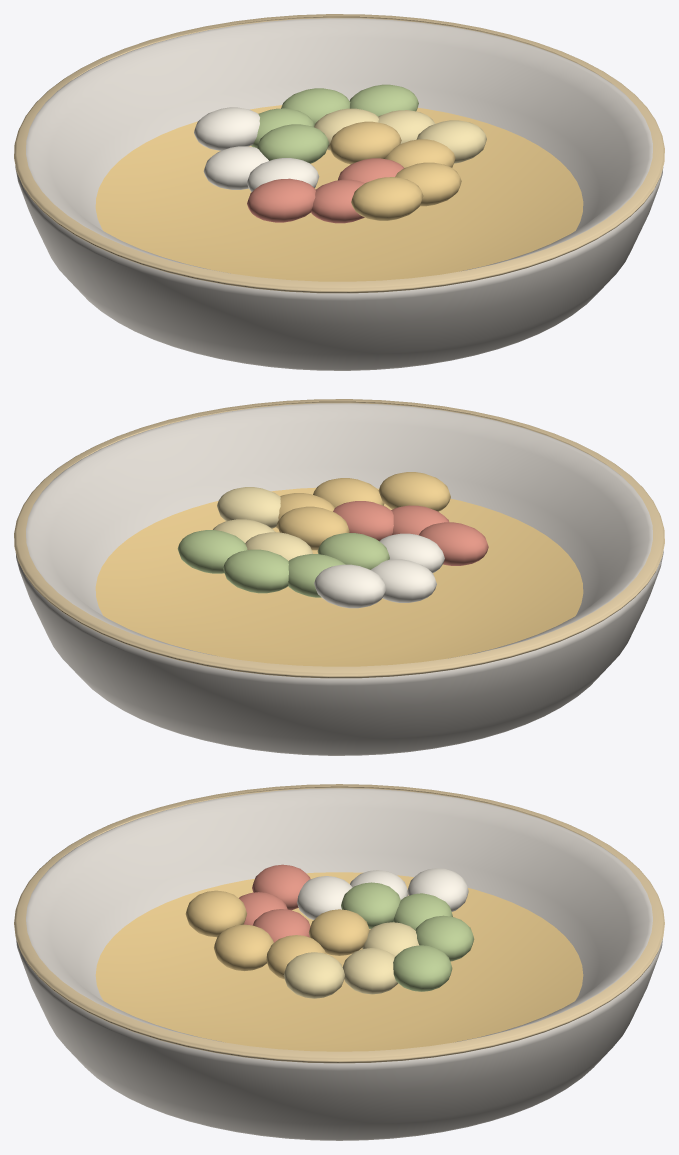
File: open-burrito-table.glb
The picture shows the model from 3 angles, top to bottom: view 1: azimuth 30°, elevation 25°; view 2: azimuth 150°, elevation 25°; view 3: azimuth 270°, elevation 25°; orthographic projection.
Visible parts, largest first — view 1: Hand-thrown shallow bowl, Sauce and food bed, Fine bowl rim, Burrito bowl topping.015, Burrito bowl topping.012, Burrito bowl topping.014, Burrito bowl topping, Burrito bowl topping.001, Burrito bowl topping.009, Burrito bowl topping.010, Burrito bowl topping.013, Burrito bowl topping.007 (+8 smaller); view 2: Hand-thrown shallow bowl, Sauce and food bed, Fine bowl rim, Burrito bowl topping.014, Burrito bowl topping.011, Burrito bowl topping.015, Burrito bowl topping.016, Burrito bowl topping.009, Burrito bowl topping.012, Burrito bowl topping.013, Burrito bowl topping, Burrito bowl topping.001 (+8 smaller); view 3: Hand-thrown shallow bowl, Sauce and food bed, Fine bowl rim, Burrito bowl topping.013, Burrito bowl topping.016, Burrito bowl topping, Burrito bowl topping.010, Burrito bowl topping.015, Burrito bowl topping.008, Burrito bowl topping.001, Burrito bowl topping.011, Burrito bowl topping.014 (+8 smaller).
Boxes of the visible parts, <box> form: Hand-thrown shallow bowl: <box>15,18,663,370</box>; Sauce and food bed: <box>95,105,583,281</box>; Fine bowl rim: <box>14,14,664,293</box>; Burrito bowl topping.015: <box>351,177,423,220</box>; Burrito bowl topping.012: <box>247,178,315,222</box>; Burrito bowl topping.014: <box>194,107,259,150</box>; Burrito bowl topping: <box>329,121,401,164</box>; Burrito bowl topping.001: <box>257,124,328,163</box>; Burrito bowl topping.009: <box>203,146,268,189</box>; Burrito bowl topping.010: <box>395,162,461,206</box>; Burrito bowl topping.013: <box>416,120,486,163</box>; Burrito bowl topping.007: <box>311,179,364,223</box>; Hand-thrown shallow bowl: <box>15,403,663,755</box>; Sauce and food bed: <box>95,487,583,666</box>; Fine bowl rim: <box>14,399,664,678</box>; Burrito bowl topping.014: <box>314,564,386,608</box>; Burrito bowl topping.011: <box>223,549,288,593</box>; Burrito bowl topping.015: <box>378,472,450,511</box>; Burrito bowl topping.016: <box>177,530,247,573</box>; Burrito bowl topping.009: <box>371,559,436,602</box>; Burrito bowl topping.012: <box>419,522,488,565</box>; Burrito bowl topping.013: <box>217,487,280,528</box>; Burrito bowl topping: <box>277,506,349,550</box>; Burrito bowl topping.001: <box>317,533,389,569</box>; Hand-thrown shallow bowl: <box>16,788,662,1140</box>; Sauce and food bed: <box>95,872,583,1051</box>; Fine bowl rim: <box>14,784,664,1063</box>; Burrito bowl topping.013: <box>283,952,344,998</box>; Burrito bowl topping.016: <box>393,945,452,991</box>; Burrito bowl topping: <box>308,909,369,955</box>; Burrito bowl topping.010: <box>214,924,273,971</box>; Burrito bowl topping.015: <box>185,890,246,937</box>; Burrito bowl topping.008: <box>342,948,398,994</box>; Burrito bowl topping.001: <box>341,882,400,928</box>; Burrito bowl topping.011: <box>415,915,474,961</box>; Burrito bowl topping.014: <box>407,868,468,911</box>.
Size of the model in its own units: 1.1 by 0.2655 by 1.1.
